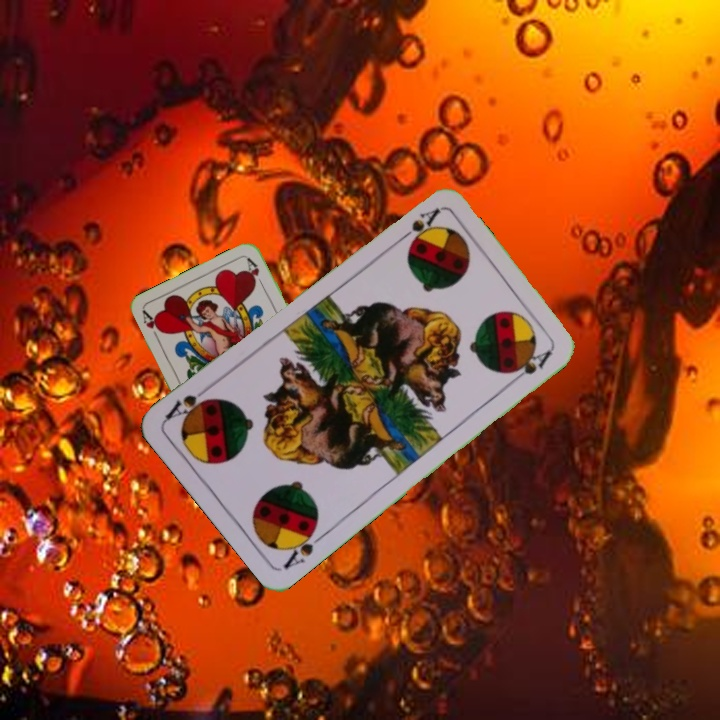HA: (139, 308, 166, 346)
SA: (279, 521, 329, 572), (391, 204, 442, 247)
